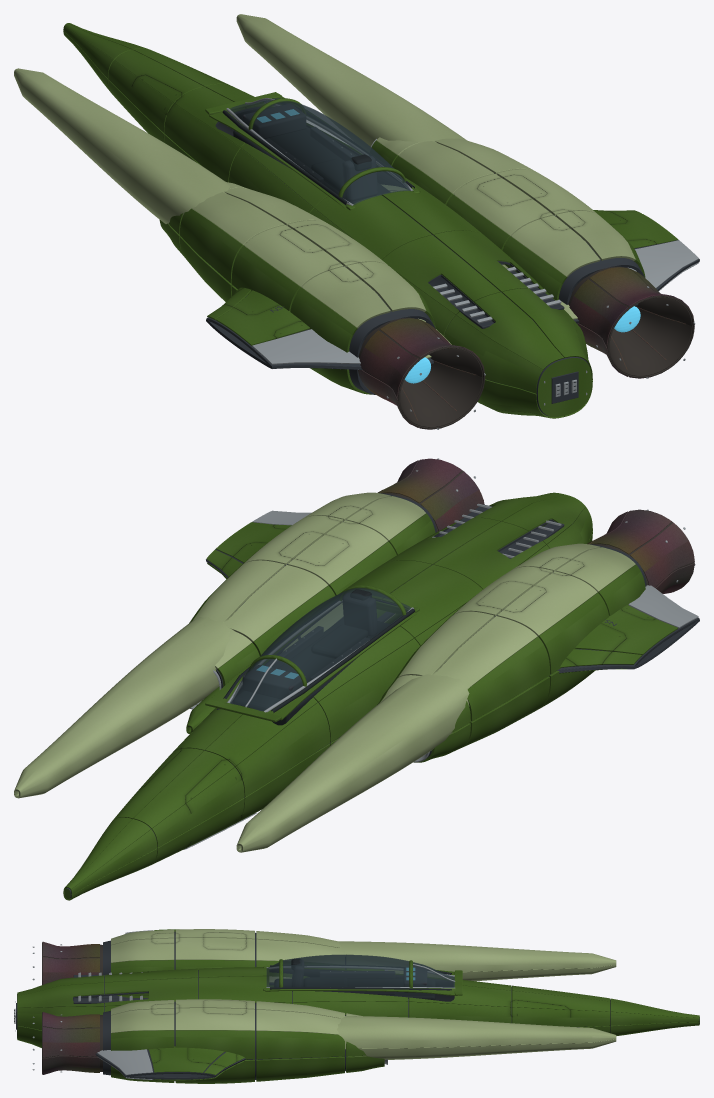
3 views of the same model, one above another, from view 1: azimuth 30°, elevation 25°; view 2: azimuth 150°, elevation 25°; view 3: azimuth 270°, elevation 25° (orthographic). The views are drawn at different scales.
Parts seen in each view (by area): view 1: Load-bearing shoulder fairing.001, Load-bearing shoulder fairing.003, Thin laminated canopy glazing, Recessed convergent nozzle liner.001, Recessed convergent nozzle liner, Fuselage fitted skin 01.2, Fuselage fitted skin 02.2, Fuselage fitted skin 00.2, Removable nacelle cowl.010, Removable nacelle cowl.042, Fuselage fitted skin 00.3, Fuselage fitted skin 04.3 (+52 smaller); view 2: Load-bearing shoulder fairing.001, Load-bearing shoulder fairing.003, Thin laminated canopy glazing, Fuselage fitted skin 04.3, Removable nacelle cowl.050, Fuselage fitted skin 03.3, Fuselage fitted skin 02.2, Removable nacelle cowl.018, Removable nacelle cowl.019, Fuselage fitted skin 01.2, Removable nacelle cowl.010, Removable nacelle cowl.042 (+49 smaller); view 3: Load-bearing shoulder fairing.003, Load-bearing shoulder fairing.001, Thin laminated canopy glazing, Removable nacelle cowl.048, Fuselage fitted skin 02.1, Removable nacelle cowl.041, Fuselage fitted skin 01.1, Removable nacelle cowl.009, Removable nacelle cowl.055, Removable nacelle cowl.040, Fuselage fitted skin 04.0, Removable nacelle cowl.049 (+52 smaller).
Part boxes in pixels (x1=…): Load-bearing shoulder fairing.001: x1=14, y1=68, x2=230, y2=224; Load-bearing shoulder fairing.003: x1=236, y1=14, x2=466, y2=146; Thin laminated canopy glazing: x1=230, y1=98, x2=410, y2=204; Recessed convergent nozzle liner.001: x1=609, y1=297, x2=692, y2=376; Recessed convergent nozzle liner: x1=399, y1=348, x2=482, y2=427; Fuselage fitted skin 01.2: x1=382, y1=235, x2=500, y2=314; Fuselage fitted skin 02.2: x1=314, y1=195, x2=431, y2=259; Fuselage fitted skin 00.2: x1=456, y1=292, x2=563, y2=369; Removable nacelle cowl.010: x1=244, y1=225, x2=343, y2=287; Removable nacelle cowl.042: x1=453, y1=174, x2=552, y2=236; Fuselage fitted skin 00.3: x1=444, y1=315, x2=542, y2=393; Fuselage fitted skin 04.3: x1=164, y1=103, x2=240, y2=182; Load-bearing shoulder fairing.001: x1=236, y1=670, x2=469, y2=852; Load-bearing shoulder fairing.003: x1=14, y1=617, x2=233, y2=798; Thin laminated canopy glazing: x1=230, y1=588, x2=410, y2=711; Fuselage fitted skin 04.3: x1=235, y1=703, x2=330, y2=796; Removable nacelle cowl.050: x1=224, y1=565, x2=327, y2=642; Fuselage fitted skin 03.3: x1=318, y1=638, x2=419, y2=742; Fuselage fitted skin 02.2: x1=382, y1=564, x2=482, y2=638; Removable nacelle cowl.018: x1=434, y1=616, x2=537, y2=688; Removable nacelle cowl.019: x1=467, y1=637, x2=549, y2=721; Fuselage fitted skin 01.2: x1=434, y1=521, x2=545, y2=589; Removable nacelle cowl.010: x1=497, y1=571, x2=597, y2=636; Removable nacelle cowl.042: x1=288, y1=520, x2=387, y2=585; Load-bearing shoulder fairing.003: x1=337, y1=1016, x2=616, y2=1059; Load-bearing shoulder fairing.001: x1=337, y1=941, x2=616, y2=981; Thin laminated canopy glazing: x1=266, y1=954, x2=454, y2=987; Removable nacelle cowl.048: x1=256, y1=1031, x2=344, y2=1059; Fuselage fitted skin 02.1: x1=198, y1=976, x2=291, y2=1002; Removable nacelle cowl.041: x1=175, y1=1008, x2=254, y2=1030; Fuselage fitted skin 01.1: x1=104, y1=978, x2=197, y2=1006; Removable nacelle cowl.009: x1=175, y1=938, x2=254, y2=960; Removable nacelle cowl.055: x1=256, y1=1056, x2=344, y2=1080; Removable nacelle cowl.040: x1=175, y1=1030, x2=254, y2=1059; Fuselage fitted skin 04.0: x1=409, y1=1002, x2=511, y2=1023; Removable nacelle cowl.049: x1=256, y1=1009, x2=340, y2=1034.
Size of the model in its own units: 1.96 by 0.6239 by 3.96.
Materials: 9 (3 with a texture image).
